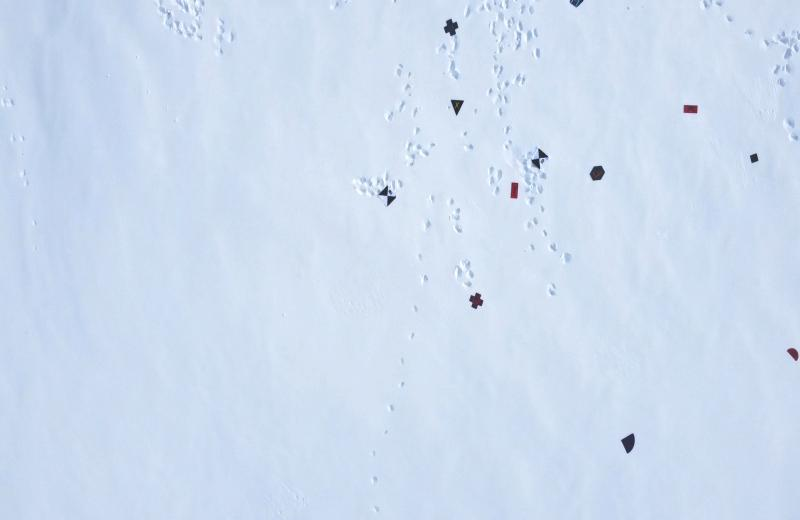Cross: (441, 17, 461, 38), (469, 291, 484, 309)
Hexagon: (589, 162, 606, 182)
Pentagon: (568, 0, 585, 7)
Quarter Circle: (620, 433, 638, 454)
Rectangle: (508, 181, 522, 199), (683, 103, 698, 115)
Semi Circle: (785, 346, 799, 364)
Square: (749, 153, 759, 165)
Triangle: (448, 96, 466, 116)
